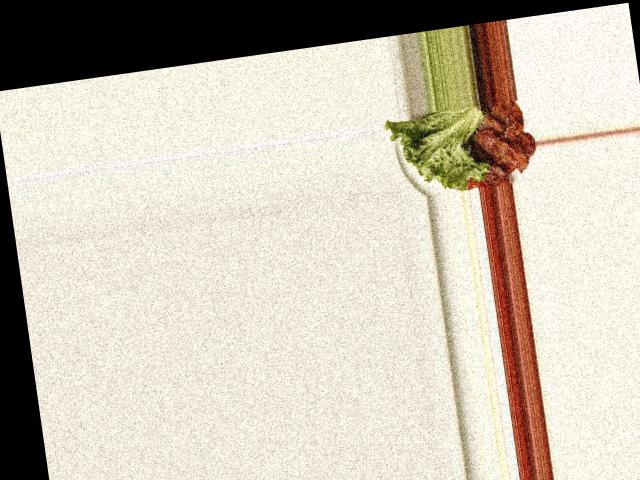lettuce: (388, 103, 492, 197)
